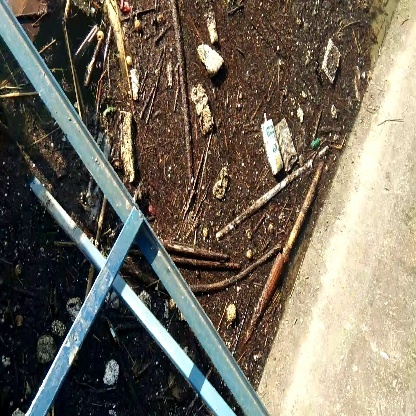branch: (166, 7, 205, 182)
milk-box: (256, 111, 286, 176)
